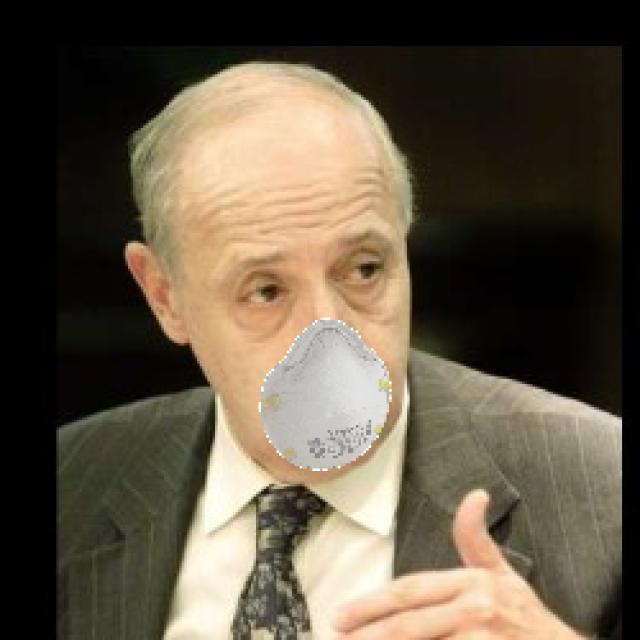n95: (159, 112, 409, 480)
